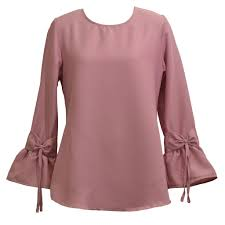C_blouse: (7, 8, 223, 220)
